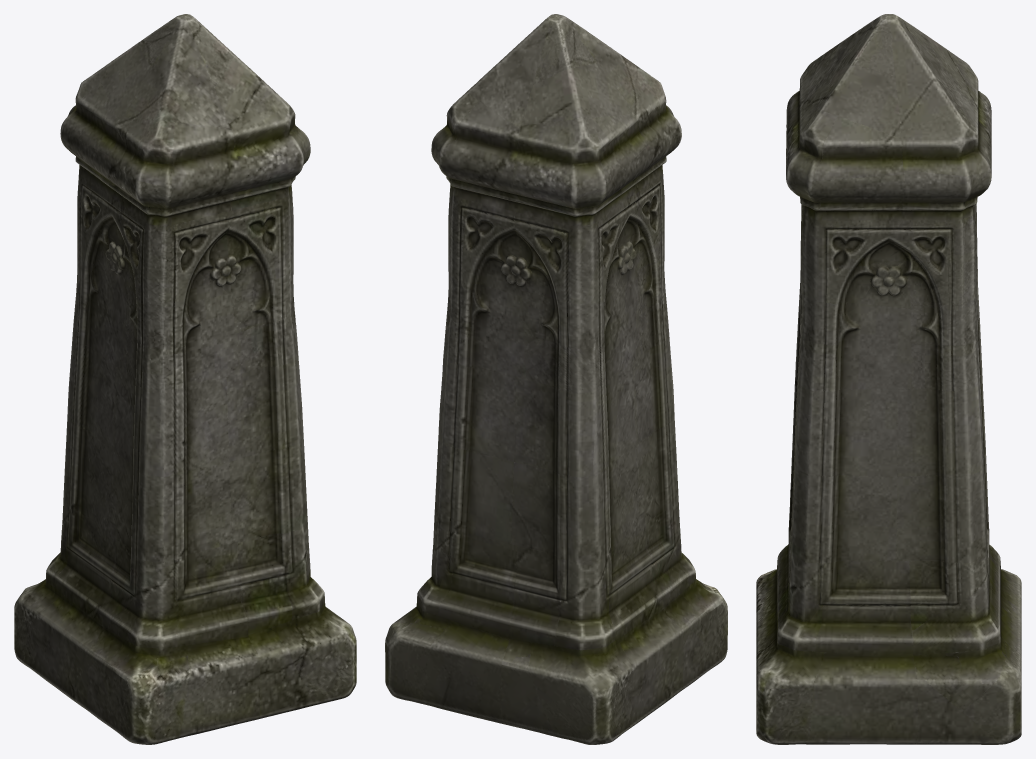
The model's file is stone-boundary-pillar.glb.
3 views of the same model, side by side, from view 1: azimuth 30°, elevation 25°; view 2: azimuth 150°, elevation 25°; view 3: azimuth 270°, elevation 25° (orthographic). The views are drawn at different scales.
Parts seen in each view (by area): view 1: mesh_node; view 2: mesh_node; view 3: mesh_node.
Boxes of the visible parts, <box> form: mesh_node: <box>14,14,356,744</box>; mesh_node: <box>385,14,727,744</box>; mesh_node: <box>756,14,1021,744</box>.
Bounding box in the file's own units: 0.6788 × 1.9 × 0.6786.
Materials: 1 (1 with a texture image).
